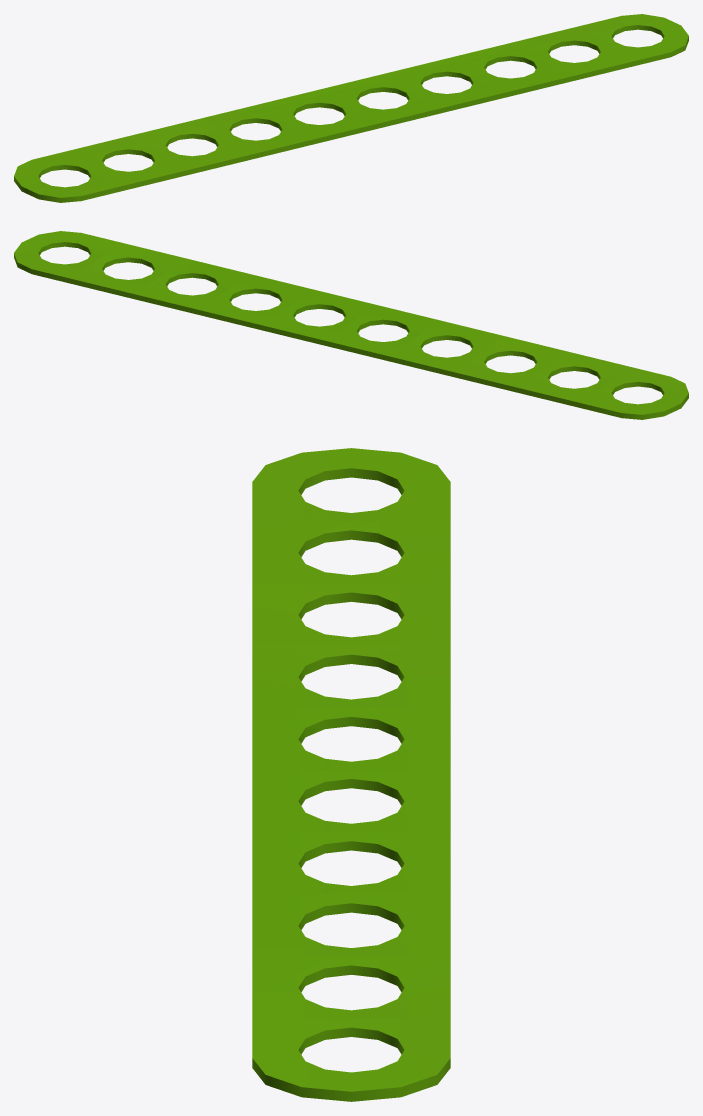
File: TenLongGreen.fbx
3 renders of one model, top to bottom at view 1: azimuth 30°, elevation 25°; view 2: azimuth 150°, elevation 25°; view 3: azimuth 270°, elevation 25°, orthographic. The views are drawn at different scales.
Parts seen in each view (by area): view 1: Blue10; view 2: Blue10; view 3: Blue10.
Part boxes in pixels (box(x1,y1,x2,y2)): Blue10: box(14, 14, 688, 202); Blue10: box(14, 231, 688, 419); Blue10: box(252, 448, 450, 1101).
Size of the model in its own units: 26.47 by 0.1942 by 3.45.
